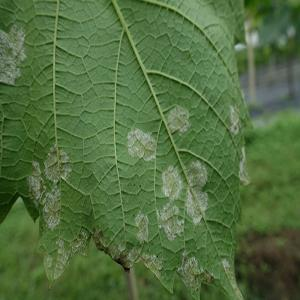Folha: (0, 0, 253, 298)
Fungo: (156, 158, 208, 241), (26, 142, 72, 231), (92, 229, 164, 276), (38, 234, 91, 282), (0, 23, 26, 85), (43, 143, 73, 184), (178, 248, 204, 292), (156, 202, 184, 241), (126, 127, 157, 162), (185, 186, 209, 226), (26, 160, 45, 208), (42, 185, 61, 231), (161, 164, 183, 202), (221, 256, 242, 295), (166, 104, 190, 136), (184, 159, 208, 188), (134, 210, 149, 244), (238, 146, 250, 186), (229, 103, 239, 134)
